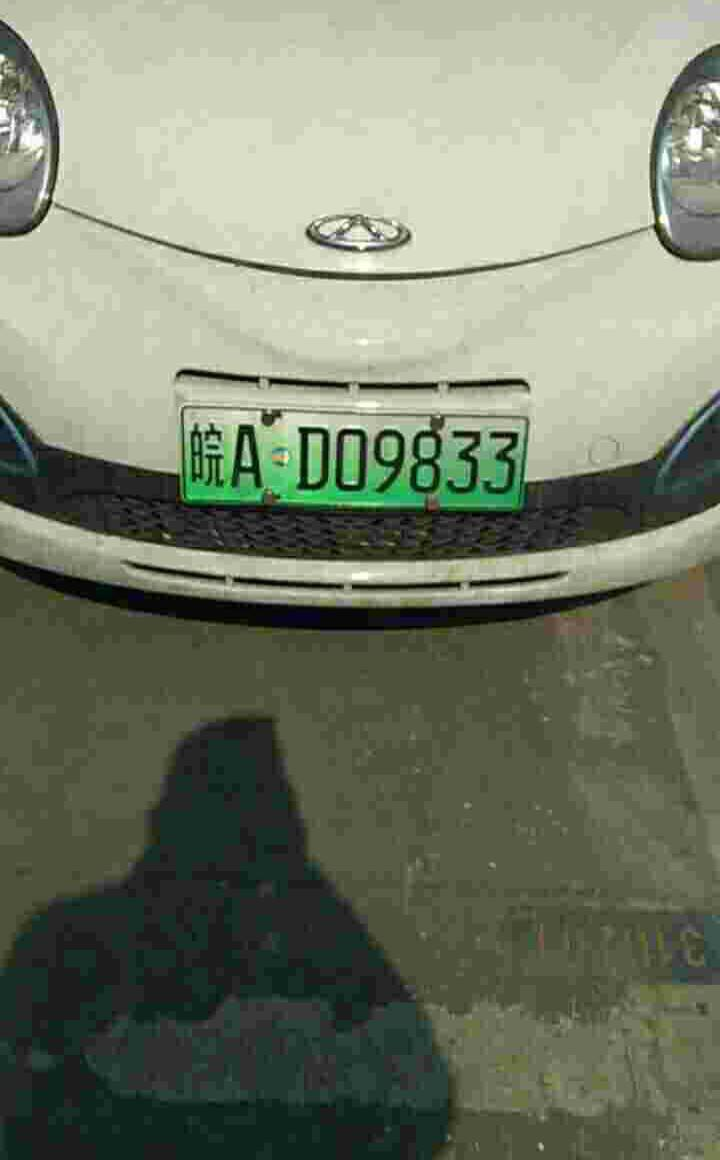car_id: (180, 409, 527, 507)
